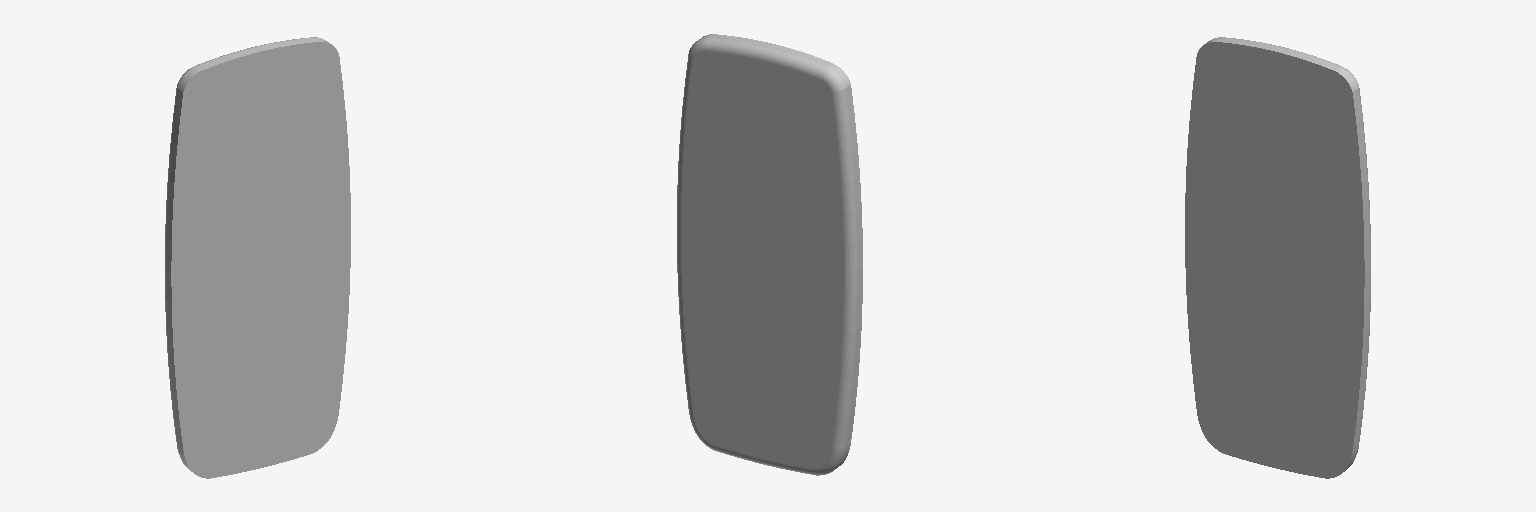
File: original-2.obj
3 renders of one model, left to right at view 1: azimuth 30°, elevation 25°; view 2: azimuth 150°, elevation 25°; view 3: azimuth 330°, elevation 25°, orthographic.
Visible parts, largest first — view 1: #ID11; view 2: #ID11; view 3: #ID11.
Part boxes in pixels (x1,y1,x2,y2): #ID11: (165,37,350,478); #ID11: (677,34,862,475); #ID11: (1185,37,1370,478).
Size of the model in its own units: 0.8799 by 1.95 by 0.0887.